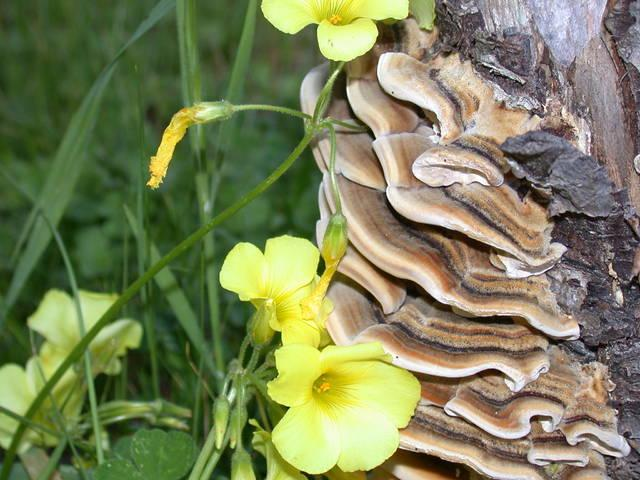poisonous_mushroom: (297, 21, 630, 477)
